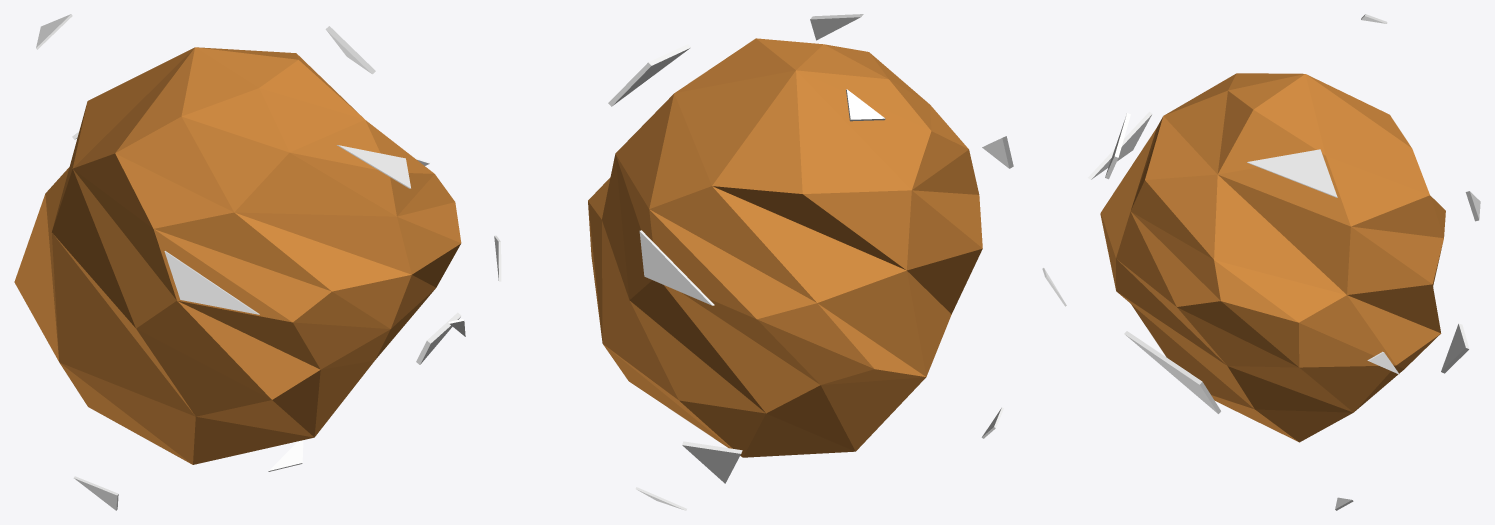
Rendered from Planet_06_a.fbx.
3 views of the same model, side by side, from view 1: azimuth 30°, elevation 25°; view 2: azimuth 150°, elevation 25°; view 3: azimuth 270°, elevation 25° (orthographic). The views are drawn at different scales.
Parts seen in each view (by area): view 1: Planet_07; view 2: Planet_07; view 3: Planet_07.
Boxes of the visible parts, x1,y1,x2,y2 form: Planet_07: (14, 14, 465, 510); Planet_07: (494, 14, 1013, 510); Planet_07: (1042, 14, 1480, 510).
Size of the model in its own units: 82.64 by 88.65 by 85.69.
